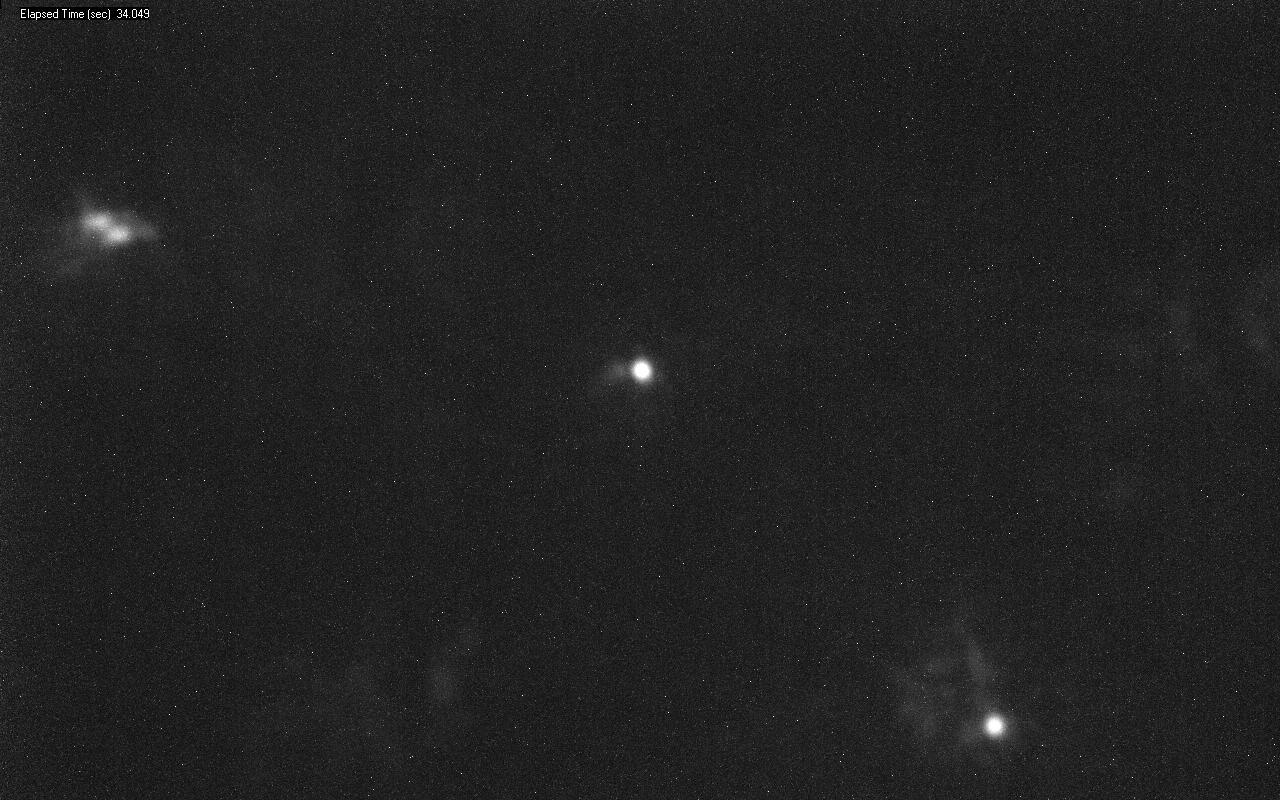Bead: (983, 713, 1005, 738), (631, 358, 652, 383)
